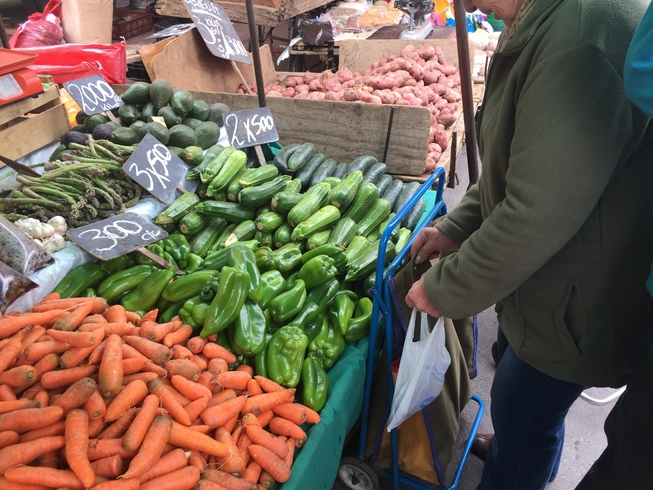precio: (57, 213, 176, 269), (116, 130, 199, 205), (180, 1, 257, 72), (61, 66, 129, 126), (219, 100, 285, 159)
